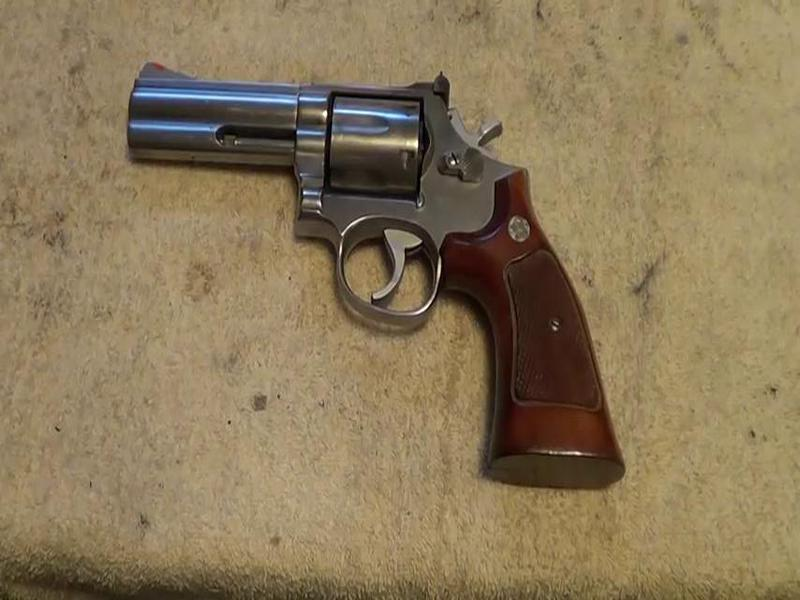Revolver: (121, 57, 663, 514)
